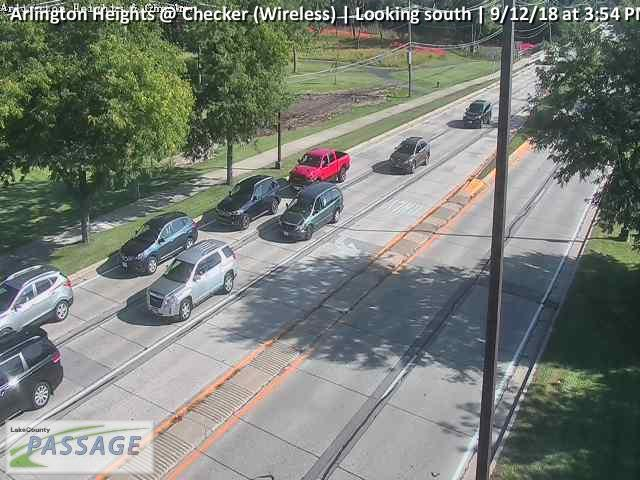SUV: (144, 239, 238, 321), (1, 329, 65, 431), (115, 210, 198, 278), (1, 264, 75, 338), (279, 182, 345, 244), (215, 174, 282, 230)
Sedan: (388, 137, 430, 171), (462, 98, 492, 126)
Truck: (286, 147, 351, 190)
